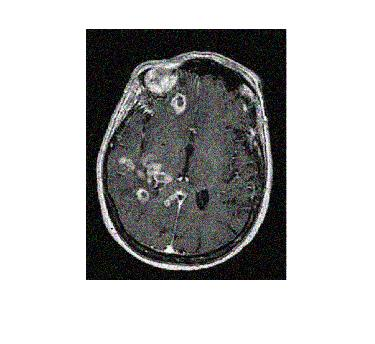Brain_Cancer: (138, 57, 185, 101)
